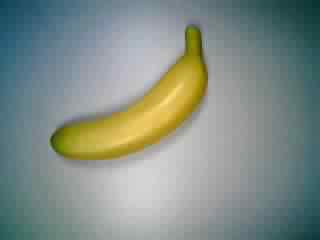banana: (42, 20, 215, 166)
